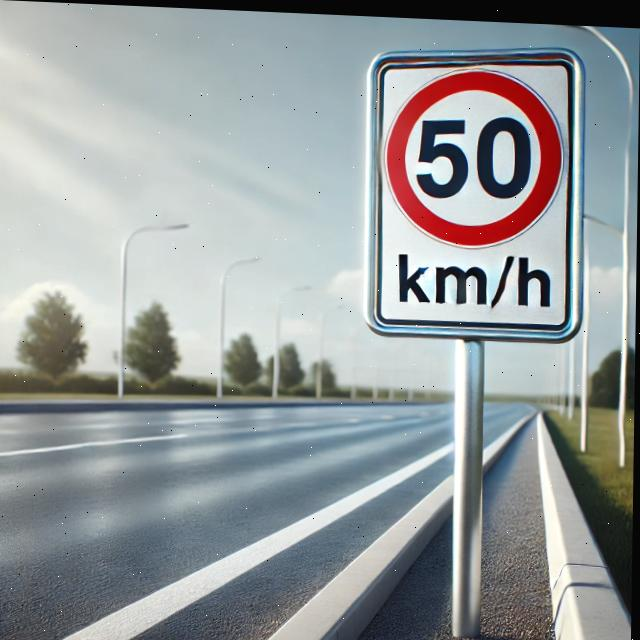Speed limit 50: (362, 53, 583, 248)
